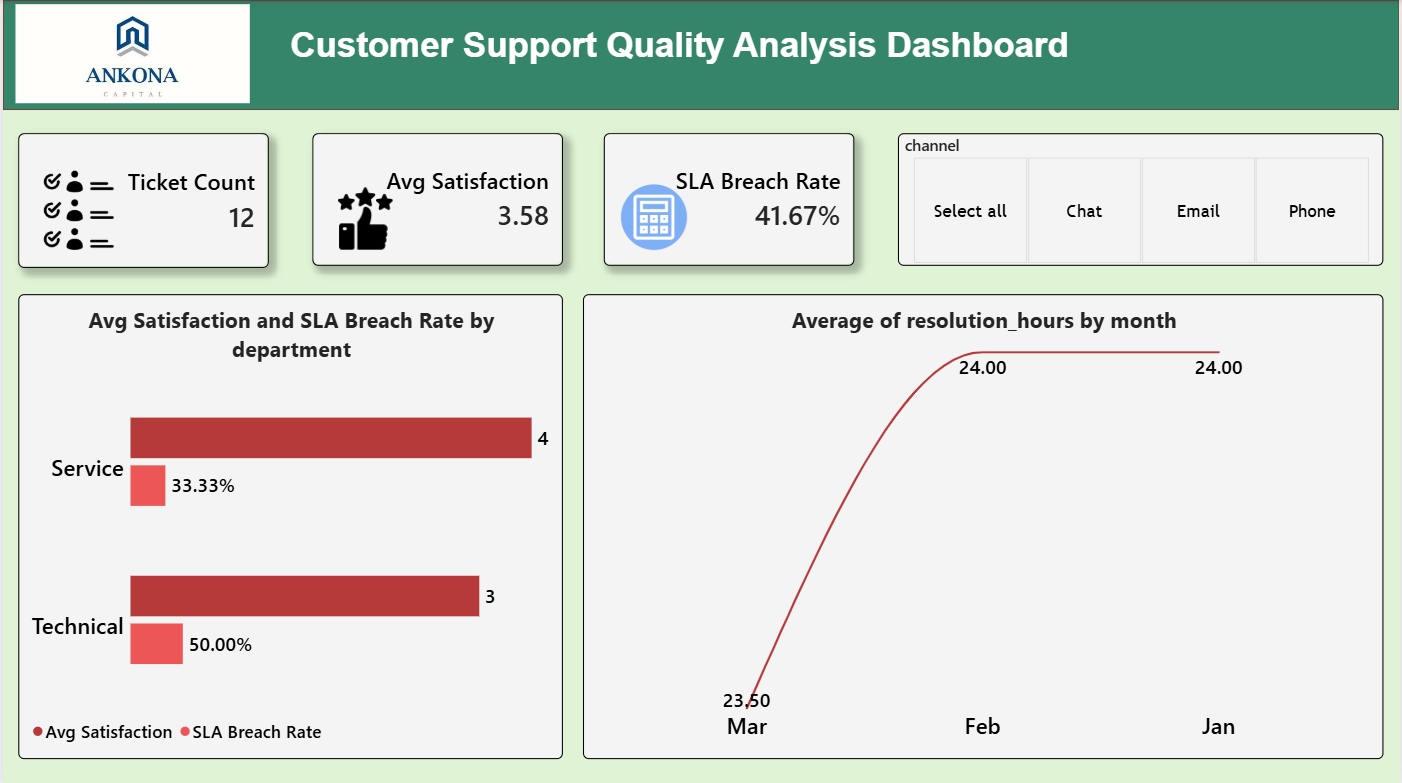

What the dashboard file says about the page in this screenshot:
{"tool":"powerbi","page":{"name":"Page 1","canvas":[1920,1080],"ordinal":0},"visuals":[{"type":"shape","box":[0,0,1919.5,151.3],"z":0},{"type":"cardVisual","fields":{"Data":["_Measures.Ticket Count"]},"box":[20.9,182.6,344.3,185.2],"z":1000},{"type":"cardVisual","fields":{"Data":["_Measures.Avg Satisfaction"]},"box":[425.1,182.6,344.3,182.6],"z":2000},{"type":"cardVisual","fields":{"Data":["_Measures.SLA Breach Rate"]},"box":[826.7,182.6,344.3,182.6],"z":3000},{"type":"clusteredBarChart","title":"Avg Satisfaction and SLA Breach Rate by department","fields":{"Category":["teams.department"],"Y":["_Measures.Avg Satisfaction","_Measures.SLA Breach Rate"]},"box":[20.9,404.2,748.5,639],"z":4000},{"type":"lineChart","fields":{"Category":["tickets.month"],"Y":["Avg(tickets.resolution_hours)"]},"box":[798.1,404.2,1100.6,639],"z":5000},{"type":"slicer","fields":{"Values":["tickets.channel"]},"box":[1231,182.6,667.7,182.6],"z":6000},{"type":"textbox","box":[395.8,33.5,1086.8,83.8],"z":7000},{"type":"image","box":[16.8,6.3,322.5,136.1],"z":8000},{"type":"image","box":[48.2,234.5,113.1,108.9],"z":8001},{"type":"image","box":[450.2,257.6,96.3,85.8],"z":8002},{"type":"image","box":[848.1,245,92.1,108.9],"z":8003}]}

Visuals, with their boxes in screenshot pixels (x1, y1, x2, y2), scaled from the page's 1920x1080 canvas onto the 1402x783 screenshot:
shape: [0, 0, 1401, 110]
cardVisual - _Measures.Ticket Count: [15, 132, 267, 267]
cardVisual - _Measures.Avg Satisfaction: [310, 132, 562, 265]
cardVisual - _Measures.SLA Breach Rate: [604, 132, 855, 265]
"Avg Satisfaction and SLA Breach Rate by department" clusteredBarChart: [15, 293, 562, 756]
lineChart - tickets.month x Avg(tickets.resolution_hours): [583, 293, 1386, 756]
slicer - tickets.channel: [899, 132, 1386, 265]
textbox: [289, 24, 1083, 85]
image: [12, 5, 248, 103]
image: [35, 170, 118, 249]
image: [329, 187, 399, 249]
image: [619, 178, 687, 257]
